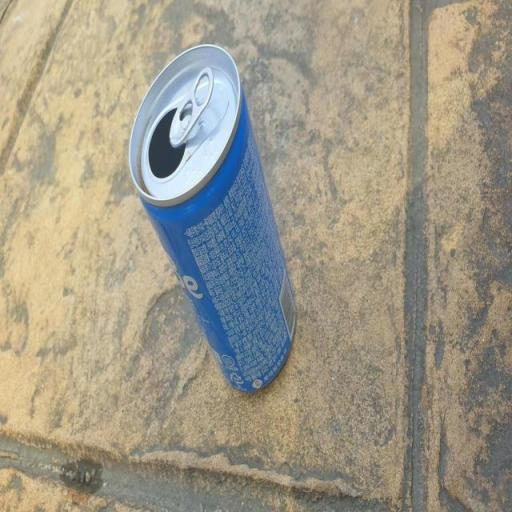metal: (124, 28, 306, 420)
